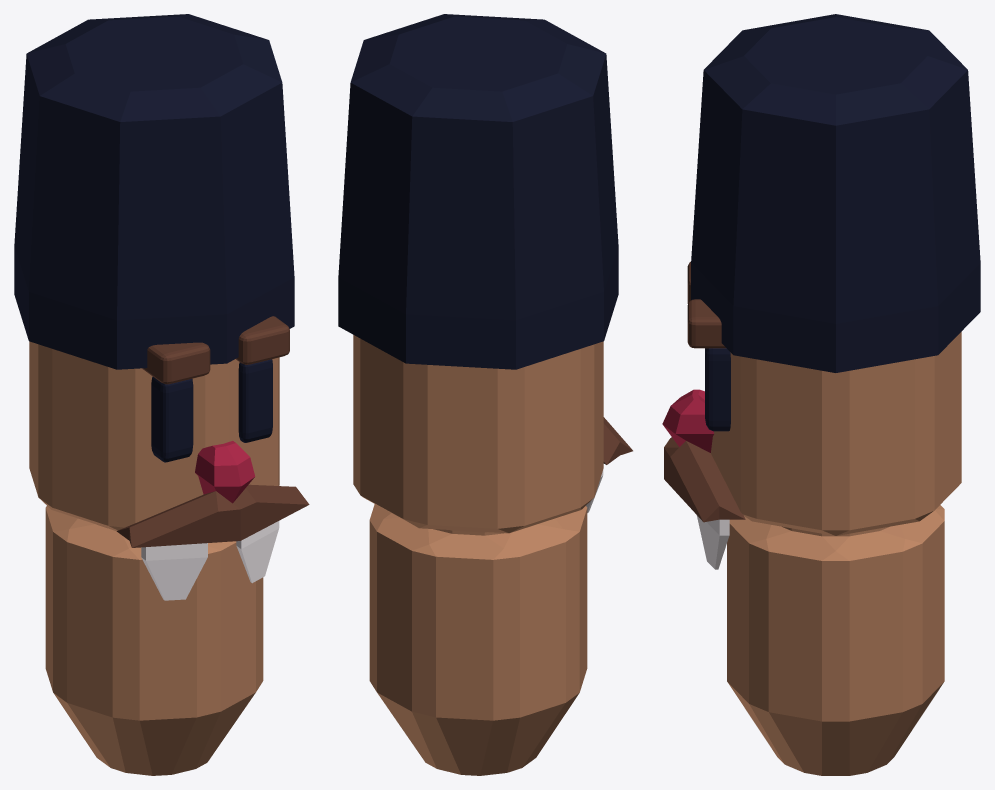
The model's file is walrus.glb.
The picture shows the model from 3 angles, left to right: view 1: azimuth 30°, elevation 25°; view 2: azimuth 150°, elevation 25°; view 3: azimuth 270°, elevation 25°; orthographic projection.
Visible parts, largest first — view 1: Hat.002, body.001, Mouth.001, Eyes.002, Eyesbrows.001; view 2: body.001, Hat.002, Mouth.001; view 3: Hat.002, body.001, Mouth.001, Eyes.002, Eyesbrows.001.
Boxes of the visible parts, x1,y1,x2,y2 form: Hat.002: [14, 14, 294, 369]; body.001: [29, 341, 279, 775]; Mouth.001: [116, 441, 309, 600]; Eyes.002: [151, 359, 272, 462]; Eyesbrows.001: [142, 316, 289, 384]; body.001: [353, 335, 603, 775]; Hat.002: [338, 14, 618, 369]; Mouth.001: [586, 417, 632, 512]; Hat.002: [691, 14, 980, 372]; body.001: [711, 332, 961, 775]; Mouth.001: [662, 389, 745, 569]; Eyes.002: [705, 348, 730, 431]; Eyesbrows.001: [687, 261, 726, 348].
Bounding box in the file's own units: 1.26 × 3.37 × 1.39.
Materials: 4 (4 with a texture image).
